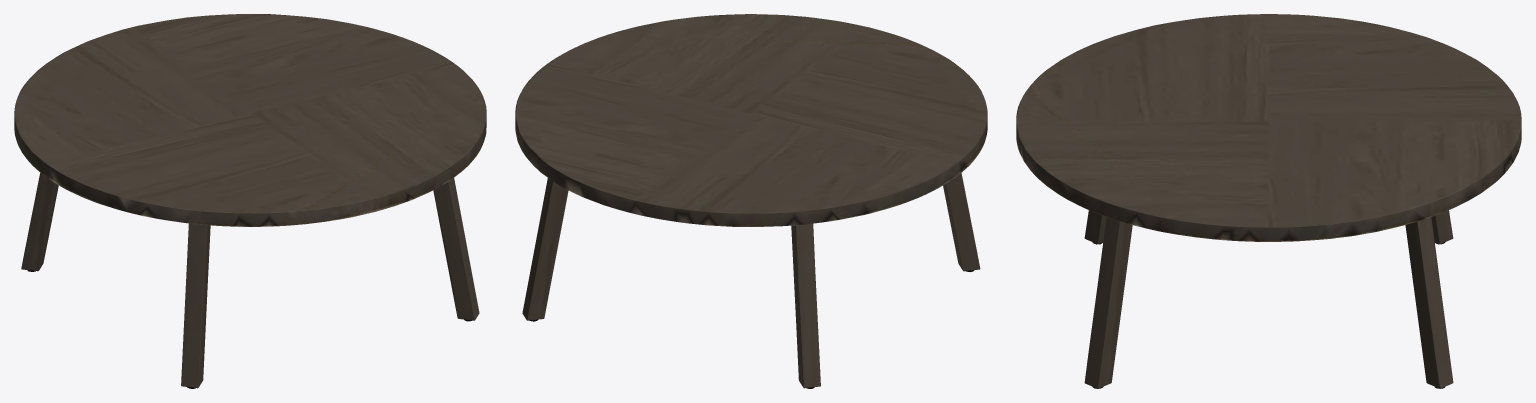
File: LB-LR-COFFEE-03.glb
3 views of the same model, side by side, from view 1: azimuth 30°, elevation 25°; view 2: azimuth 150°, elevation 25°; view 3: azimuth 270°, elevation 25° (orthographic). The views are drawn at different scales.
Visible parts, largest first — view 1: ASY_ART_50586555_S01_NV01; view 2: ASY_ART_50586555_S01_NV01; view 3: ASY_ART_50586555_S01_NV01.
Boxes of the visible parts, x1,y1,x2,y2 form: ASY_ART_50586555_S01_NV01: (14,14,486,388); ASY_ART_50586555_S01_NV01: (515,14,987,388); ASY_ART_50586555_S01_NV01: (1016,14,1521,388).
Size of the model in its own units: 0.9002 by 0.3817 by 0.9002.
1 material, 1 textured.
